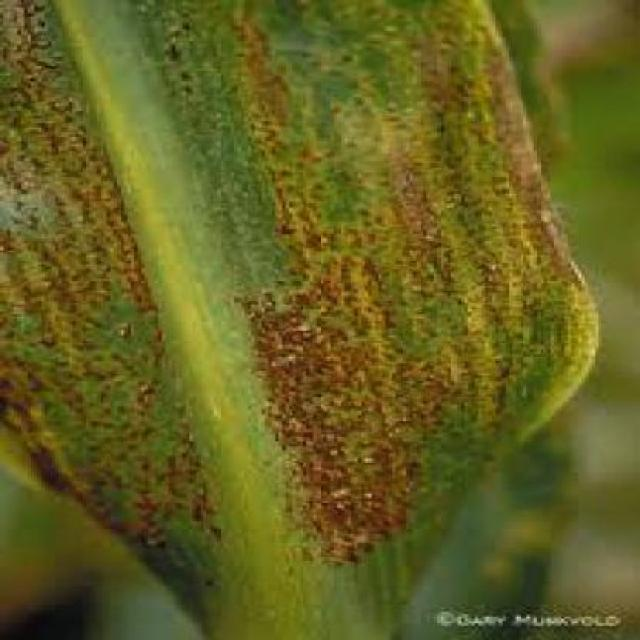Corn_Rust: (3, 0, 597, 591)
